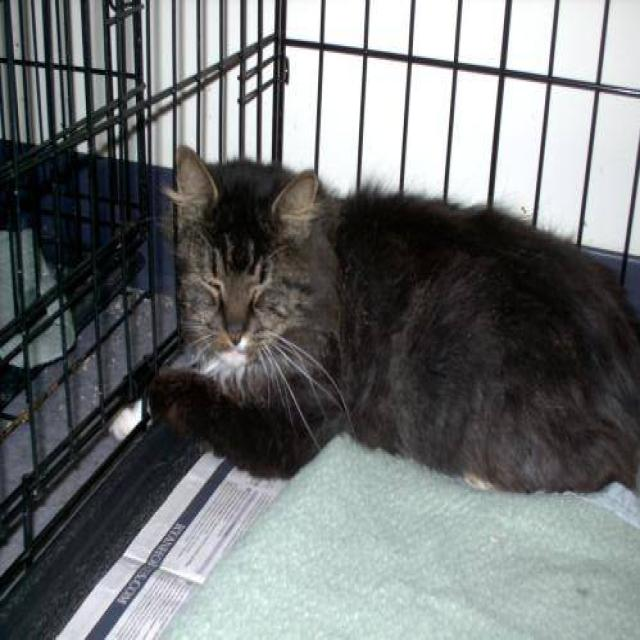cat: (114, 142, 639, 510)
